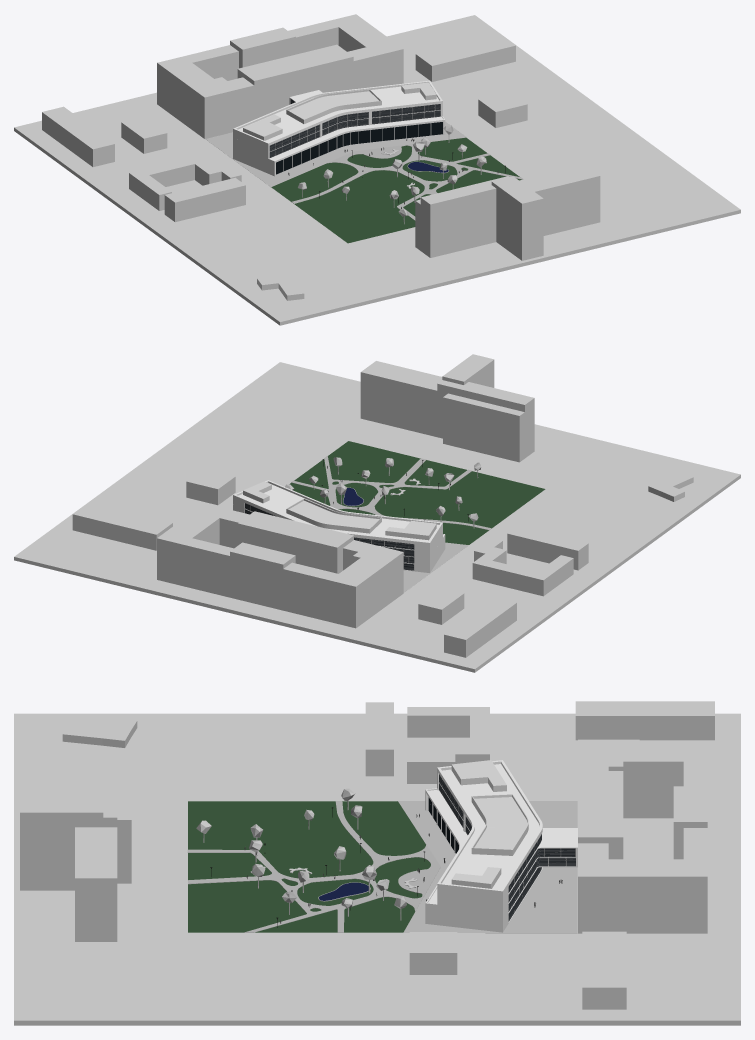
Rendered from campus_web_test.gltf.
3 renders of one model, top to bottom at view 1: azimuth 30°, elevation 25°; view 2: azimuth 150°, elevation 25°; view 3: azimuth 270°, elevation 25°, orthographic. The views are drawn at different scales.
Visible parts, largest first — view 1: backr_buildings, ground, lvl_3, lvl_2, path_park, main_B, lvl1, trees; view 2: backr_buildings, ground, lvl_3, path_park, trees; view 3: backr_buildings, ground, lvl_3, path_park, lvl_2, trees, lvl1, main_B, Line001.
Boxes of the visible parts, x1,y1,x2,y2 form: backr_buildings: (14,14,740,325); ground: (205,122,521,243); lvl_3: (233,80,442,152); lvl_2: (233,90,445,162); path_park: (292,141,523,220); main_B: (233,127,445,176); lvl1: (233,104,445,169); trees: (298,125,486,224); backr_buildings: (14,354,740,672); ground: (289,441,545,592); lvl_3: (233,480,442,551); path_park: (291,456,491,530); trees: (285,457,481,528); backr_buildings: (14,701,740,1025); ground: (188,801,577,933); lvl_3: (437,760,542,903); path_park: (187,801,440,932); lvl_2: (425,780,577,913); trees: (196,788,406,920); lvl1: (425,791,577,922); main_B: (425,800,542,932); Line001: (318,882,370,901).
Size of the model in its own units: 270 by 33.99 by 270.
11 materials, 1 textured.
